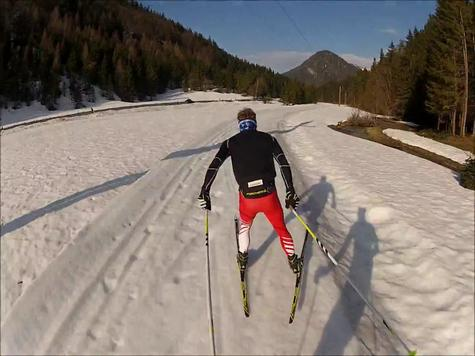down: (299, 171, 330, 233)
sit: (299, 171, 330, 233)
